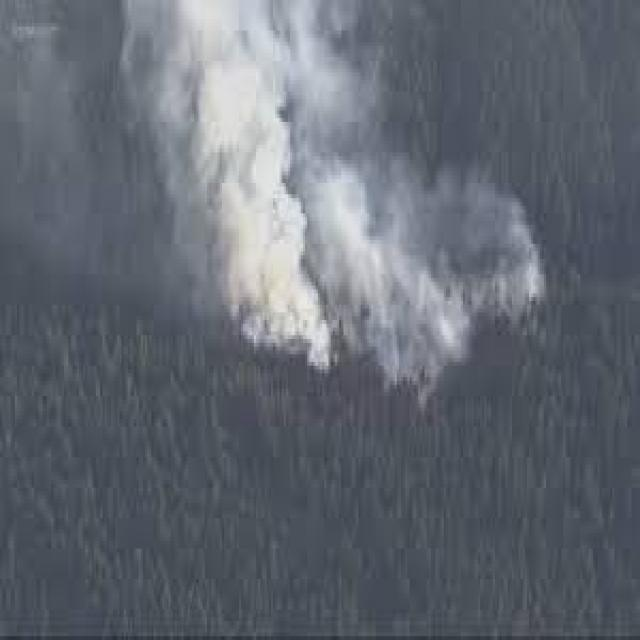Smoke: (166, 188, 550, 404), (134, 0, 335, 372)
